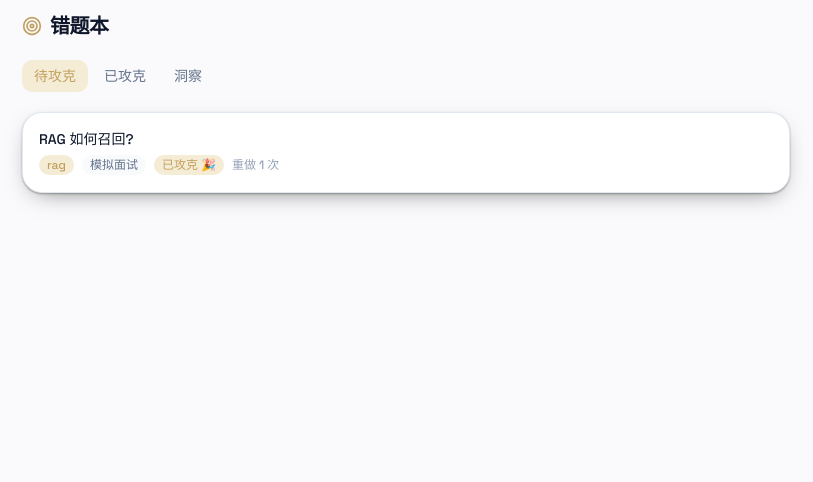
Test case: ErrorBook › conquered item hides redo form behind a button
The image size is (813, 482).
What coordinates should you click on to do the following:
click the text "RAG 如何召回?"
I would click on:
 (86, 139)
Its box is x1=39 y1=130 x2=134 y2=148.
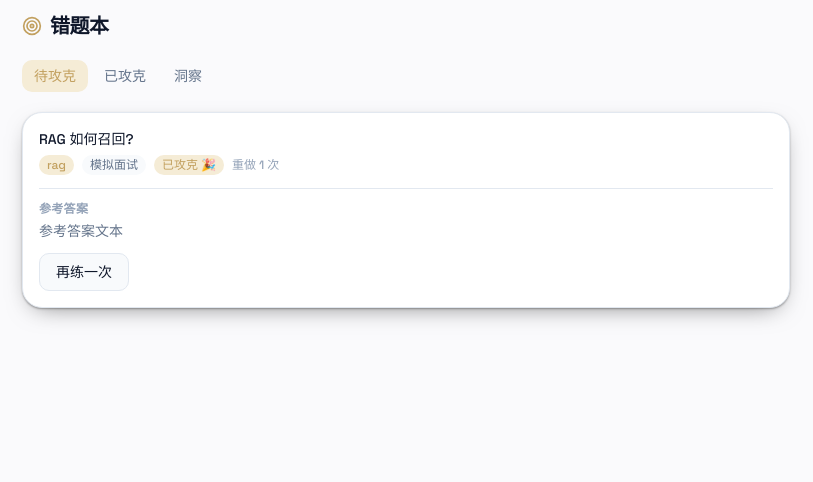
Expected: the field labelled "重做答案" is not shown
What coordinates should you click on to do the following:
click the button "再练一次"
I would click on:
 (84, 272)
Its box is x1=39 y1=253 x2=129 y2=291.
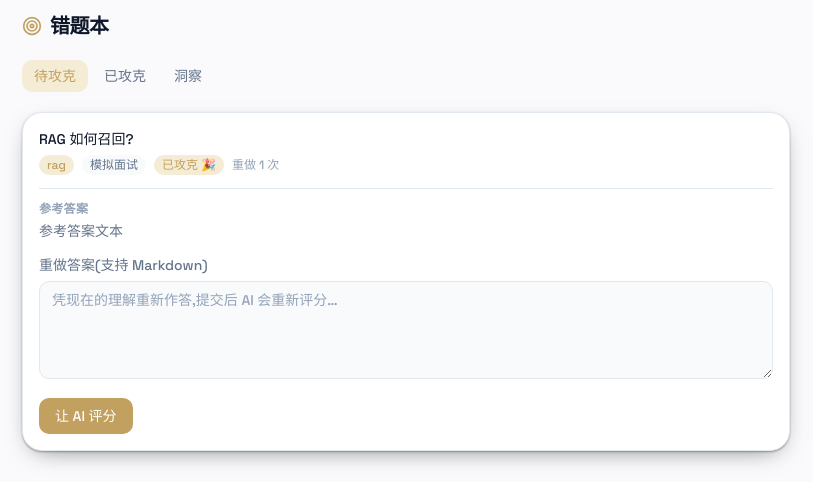
Expected: the text box labelled "重做答案(支持 Markdown)" is shown, x1=39 y1=281 x2=773 y2=379
